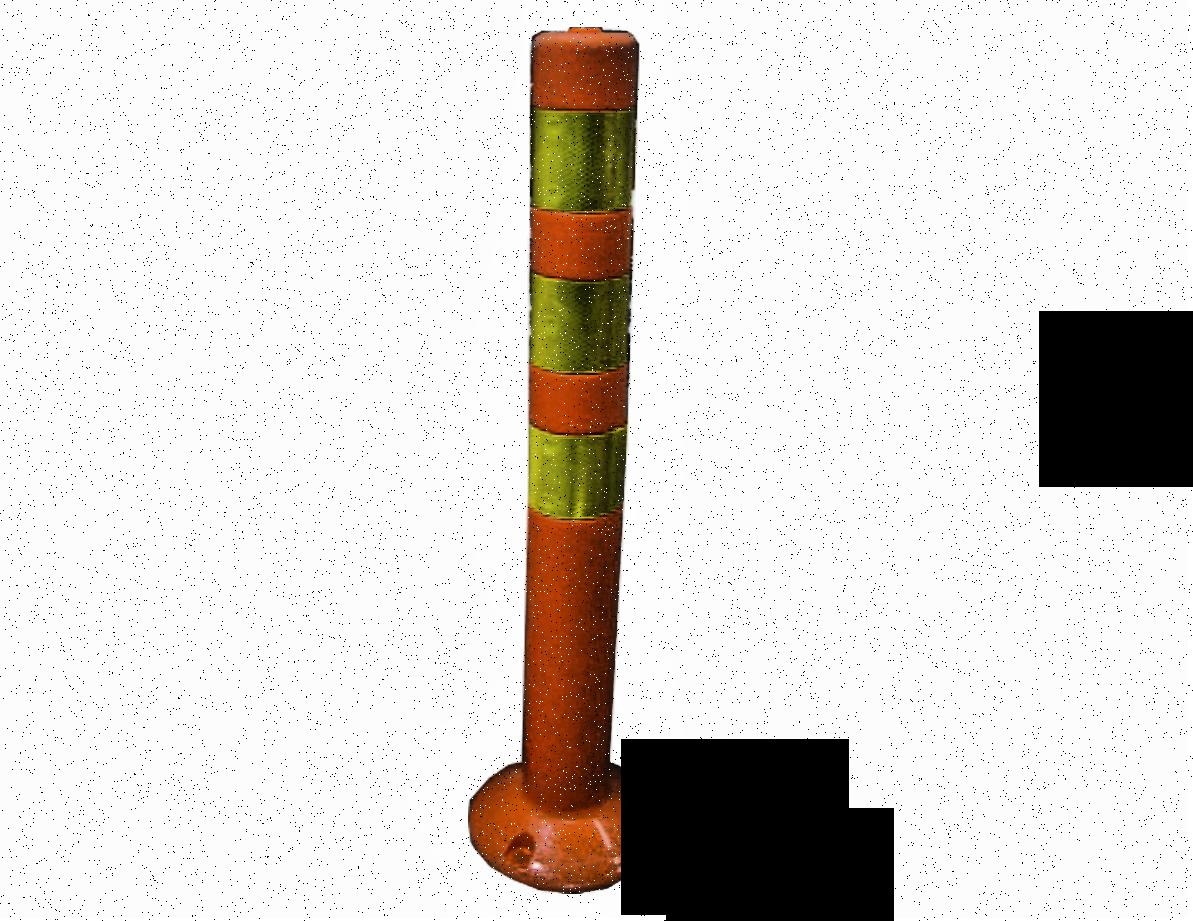bench: (472, 8, 666, 893)
